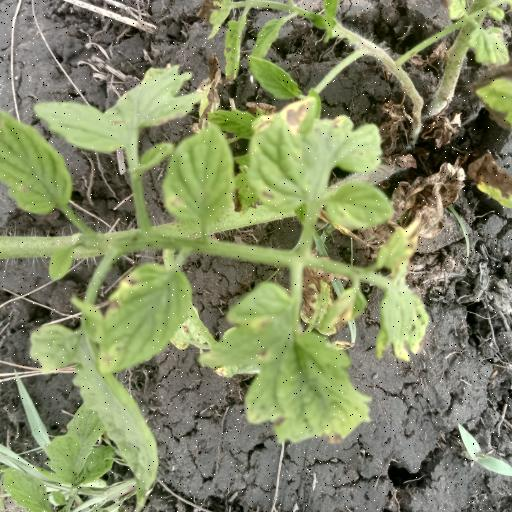Tomato_Brown_Spots: (204, 278, 373, 444), (240, 96, 402, 229), (94, 260, 194, 378)
